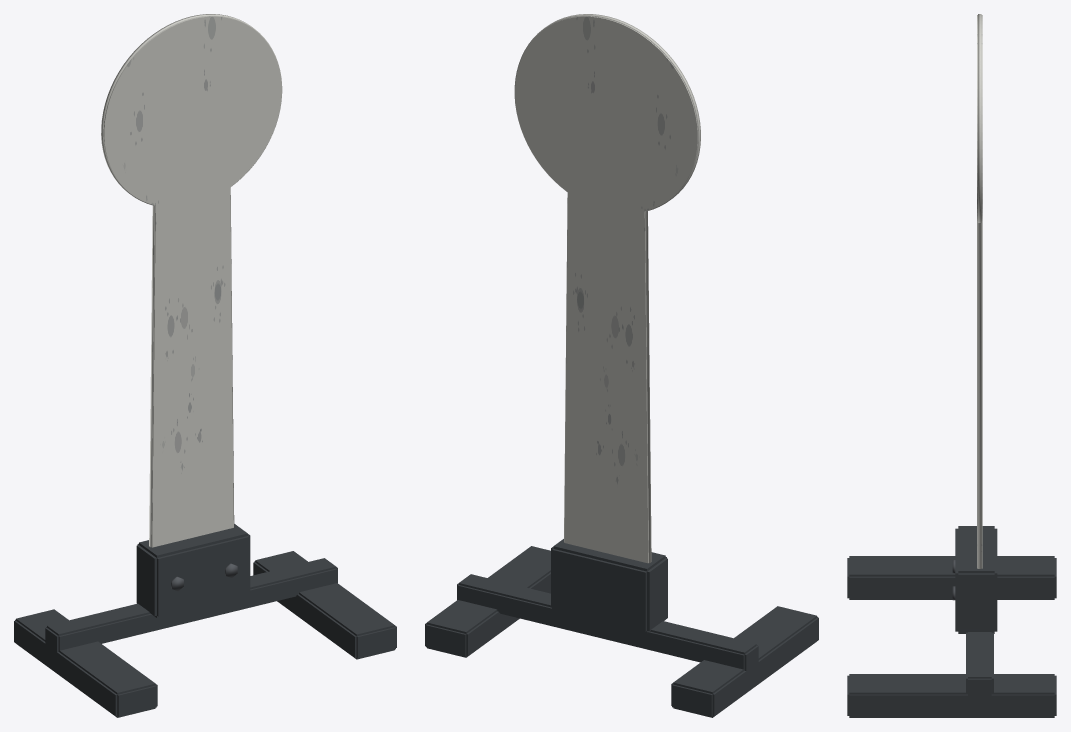
The model's file is obj_steel_popper.glb.
The picture shows the model from 3 angles, left to right: view 1: azimuth 30°, elevation 25°; view 2: azimuth 150°, elevation 25°; view 3: azimuth 270°, elevation 25°; orthographic projection. The views are drawn at different scales.
Visible parts, largest first — view 1: popper, steel_popper_body; view 2: popper, steel_popper_body; view 3: steel_popper_body, popper.
Boxes of the visible parts, x1,y1,x2,y2 form: popper: (101,14,282,547); steel_popper_body: (14,524,396,717); popper: (514,14,700,563); steel_popper_body: (425,539,818,717); steel_popper_body: (847,526,1056,717); popper: (977,14,982,568).
Bounding box in the file's own units: 0.47 × 0.99 × 0.3.
Materials: 3 (2 with a texture image).
